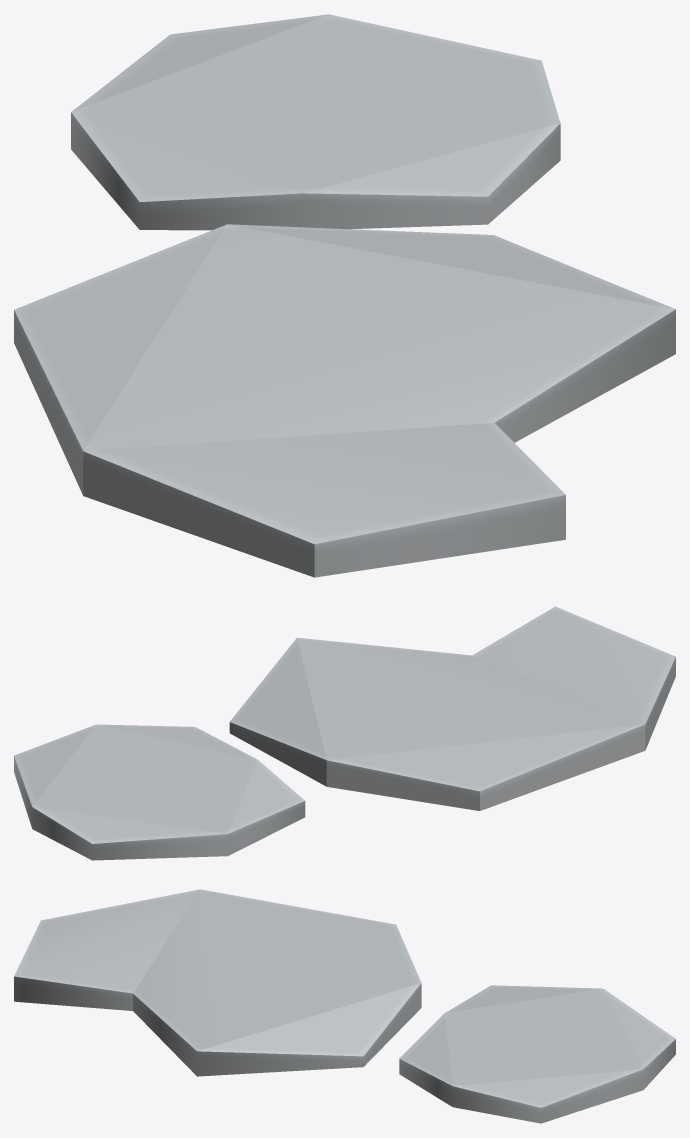
The model's file is Pedra_Chão_2.fbx.
The picture shows the model from 3 angles, top to bottom: view 1: azimuth 30°, elevation 25°; view 2: azimuth 150°, elevation 25°; view 3: azimuth 270°, elevation 25°; orthographic projection. The views are drawn at different scales.
Visible parts, largest first — view 1: Pedra_Chao_2; view 2: Pedra_Chao_2; view 3: Pedra_Chao_2.
Boxes of the visible parts, x1,y1,x2,y2 form: Pedra_Chao_2: [14, 14, 675, 577]; Pedra_Chao_2: [14, 606, 675, 860]; Pedra_Chao_2: [14, 889, 675, 1123].
Bounding box in the file's own units: 89.82 × 5.05 × 120.
